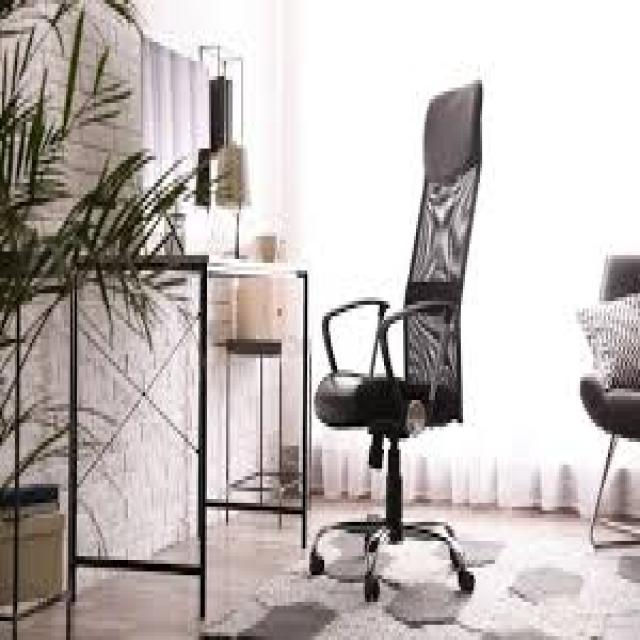chair: (294, 55, 517, 640), (532, 187, 640, 640)
